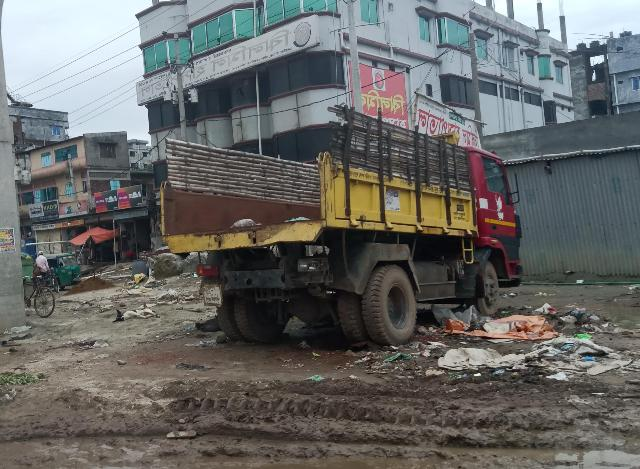truck: (128, 107, 529, 351)
